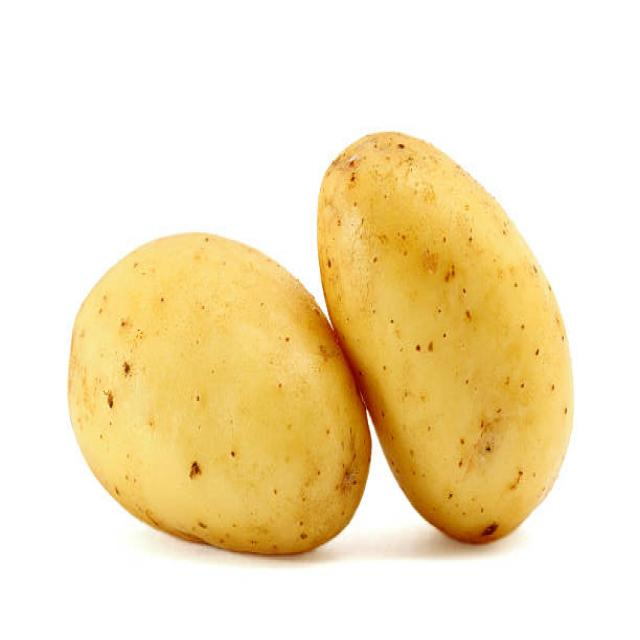potato: (61, 230, 372, 554), (361, 121, 578, 548)
